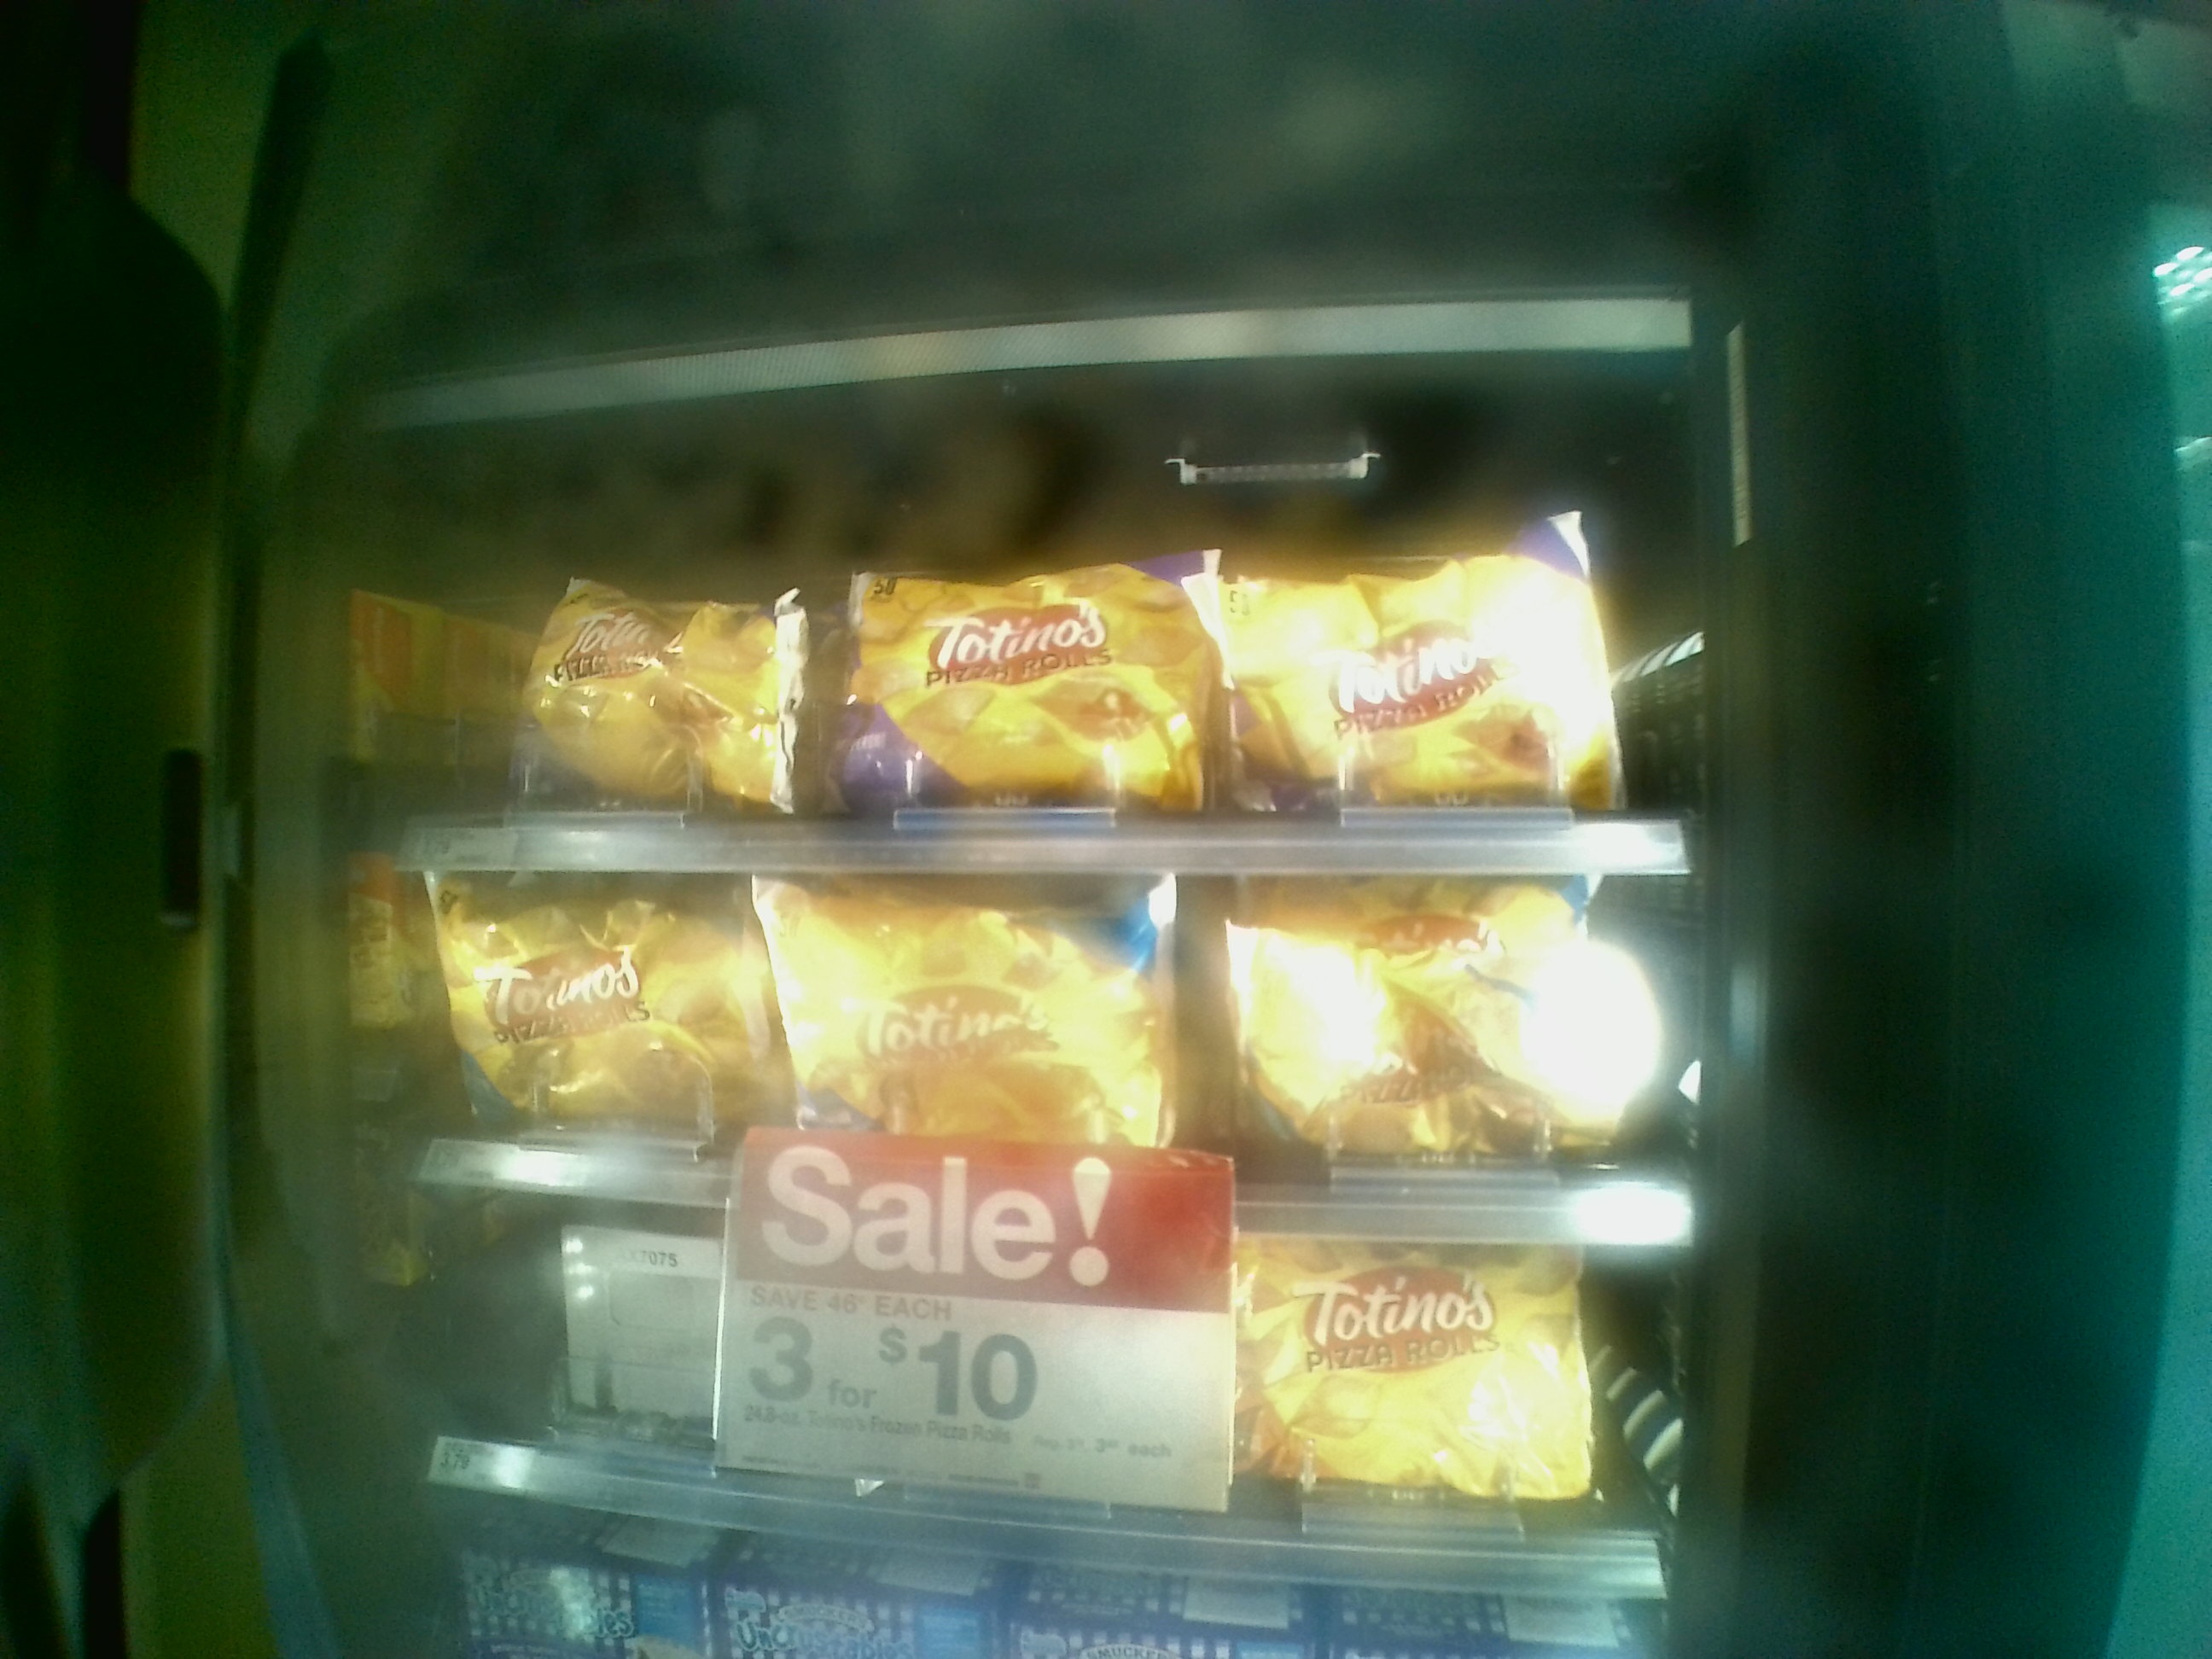shelf: (347, 410, 1702, 873), (355, 1190, 1700, 1608), (347, 859, 1702, 1256)
